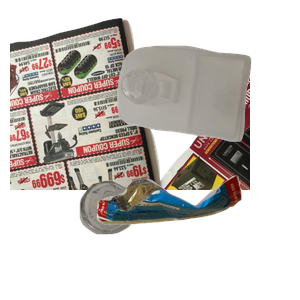glass: (77, 178, 205, 300)
paper: (10, 15, 250, 195)
plastic: (115, 43, 300, 177)
trash: (94, 173, 300, 300)
